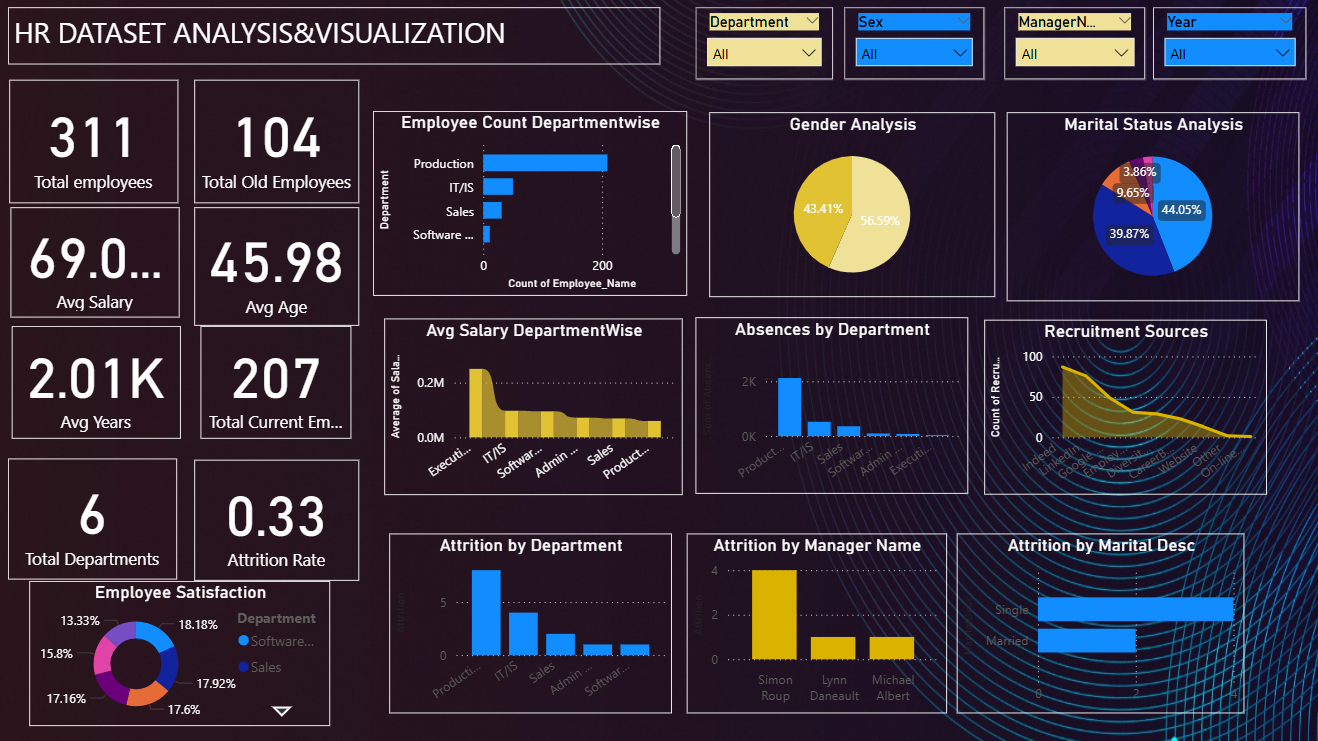

The dashboard page shown, as its layout file describes it:
{"tool":"powerbi","page":{"name":"Page 1","canvas":[1280,720],"ordinal":0},"visuals":[{"type":"textbox","box":[9.7,10.9,629.8,55.5],"z":0},{"type":"card","fields":{"Values":["AllEmployees.Total employees"]},"box":[10.9,80.8,162.9,119.4],"z":1000},{"type":"card","fields":{"Values":["AllEmployees.Total Old Employees"]},"box":[189.4,80.8,159.3,119.4],"z":2000},{"type":"card","fields":{"Values":["AllEmployees.Avg Salary"]},"box":[12.1,203.9,162.9,106.2],"z":3000},{"type":"card","fields":{"Values":["AllEmployees.Avg Age"]},"box":[189.4,203.9,159.3,114.6],"z":4000},{"type":"card","fields":{"Values":["AllEmployees.Avg Years"]},"box":[13.3,318.5,162.9,108.6],"z":5000},{"type":"card","fields":{"Values":["AllEmployees.Total Current Employees"]},"box":[195.4,318.5,146,108.6],"z":6000},{"type":"card","fields":{"Values":["AllEmployees.Total Departments"]},"box":[9.7,446.4,162.9,117],"z":7000},{"type":"card","fields":{"Values":["AllEmployees.Attrition Rate"]},"box":[189.4,447.6,159.3,117],"z":8000},{"type":"clusteredBarChart","title":"Employee Count Departmentwise","fields":{"Category":["AllEmployees.Department"],"Y":["AllEmployees.Employee_Name"]},"box":[358.3,100.1,311.3,190.6],"z":9000},{"type":"pieChart","title":"Gender Analysis","fields":{"Category":["AllEmployees.Sex"],"Y":["AllEmployees.Sex"]},"box":[686.5,108.6,238.9,182.2],"z":10000},{"type":"pieChart","title":"Marital Status Analysis","fields":{"Category":["AllEmployees.MaritalDesc"],"Y":["AllEmployees.MaritalDesc"]},"box":[951.9,112.2,237.7,182.2],"z":11000},{"type":"ribbonChart","title":"Avg Salary DepartmentWise","fields":{"Y":["AllEmployees.Salary"],"Category":["AllEmployees.Department"]},"box":[372.8,311.3,288.3,170.1],"z":12000},{"type":"clusteredColumnChart","title":"Absences by Department","fields":{"Category":["AllEmployees.Department"],"Y":["AllEmployees.Absences"]},"box":[673.2,310.1,263,170.1],"z":13000},{"type":"stackedAreaChart","title":"Recruitment Sources","fields":{"Category":["AllEmployees.RecruitmentSource"],"Y":["AllEmployees.RecruitmentSource"]},"box":[951.9,312.5,272.7,168.9],"z":14000},{"type":"donutChart","title":"Employee Satisfaction","fields":{"Category":["AllEmployees.Department"],"Y":["AllEmployees.EmpSatisfaction"]},"box":[30.2,564.6,290.8,139.9],"z":15000},{"type":"columnChart","title":"Attrition by Department","fields":{"Category":["AllEmployees.Department"],"Y":["AllEmployees.Attrition"]},"box":[377.6,518.8,272.7,173.7],"z":16000},{"type":"columnChart","title":"Attrition by Manager Name","fields":{"Y":["AllEmployees.Attrition"],"Category":["AllEmployees.ManagerName"]},"box":[664.7,518.8,250.9,173.7],"z":17000},{"type":"barChart","title":"Attrition by Marital Desc","fields":{"Category":["AllEmployees.MaritalDesc"],"Y":["AllEmployees.Attrition"]},"box":[925.3,518.8,277.5,173.7],"z":18000},{"type":"slicer","title":"Attrition by Marital Desc","fields":{"Values":["AllEmployees.Department"]},"box":[673.2,10.9,132.7,70],"z":18001},{"type":"slicer","title":"Attrition by Marital Desc","fields":{"Values":["AllEmployees.ManagerName"]},"box":[971.2,10.9,136.3,70],"z":18002},{"type":"slicer","title":"Attrition by Marital Desc","fields":{"Values":["AllEmployees.Year"]},"box":[1114.8,10.9,148.4,70],"z":18003},{"type":"slicer","title":"Attrition by Marital Desc","fields":{"Values":["AllEmployees.Sex"]},"box":[816.8,10.9,135.1,70],"z":18004}]}

Visuals, with their boxes in screenshot pixels (x1, y1, x2, y2), scaled from the page's 1280x720 canvas onto the 1318x741 screenshot:
textbox: detection(10, 11, 658, 68)
card - AllEmployees.Total employees: detection(11, 83, 179, 206)
card - AllEmployees.Total Old Employees: detection(195, 83, 359, 206)
card - AllEmployees.Avg Salary: detection(12, 210, 180, 319)
card - AllEmployees.Avg Age: detection(195, 210, 359, 328)
card - AllEmployees.Avg Years: detection(14, 328, 181, 440)
card - AllEmployees.Total Current Employees: detection(201, 328, 352, 440)
card - AllEmployees.Total Departments: detection(10, 459, 178, 580)
card - AllEmployees.Attrition Rate: detection(195, 461, 359, 581)
"Employee Count Departmentwise" clusteredBarChart: detection(369, 103, 689, 299)
"Gender Analysis" pieChart: detection(707, 112, 953, 299)
"Marital Status Analysis" pieChart: detection(980, 115, 1225, 303)
"Avg Salary DepartmentWise" ribbonChart: detection(384, 320, 681, 495)
"Absences by Department" clusteredColumnChart: detection(693, 319, 964, 494)
"Recruitment Sources" stackedAreaChart: detection(980, 322, 1261, 495)
"Employee Satisfaction" donutChart: detection(31, 581, 331, 725)
"Attrition by Department" columnChart: detection(389, 534, 670, 713)
"Attrition by Manager Name" columnChart: detection(684, 534, 943, 713)
"Attrition by Marital Desc" barChart: detection(953, 534, 1239, 713)
"Attrition by Marital Desc" slicer: detection(693, 11, 830, 83)
"Attrition by Marital Desc" slicer: detection(1000, 11, 1140, 83)
"Attrition by Marital Desc" slicer: detection(1148, 11, 1301, 83)
"Attrition by Marital Desc" slicer: detection(841, 11, 980, 83)
